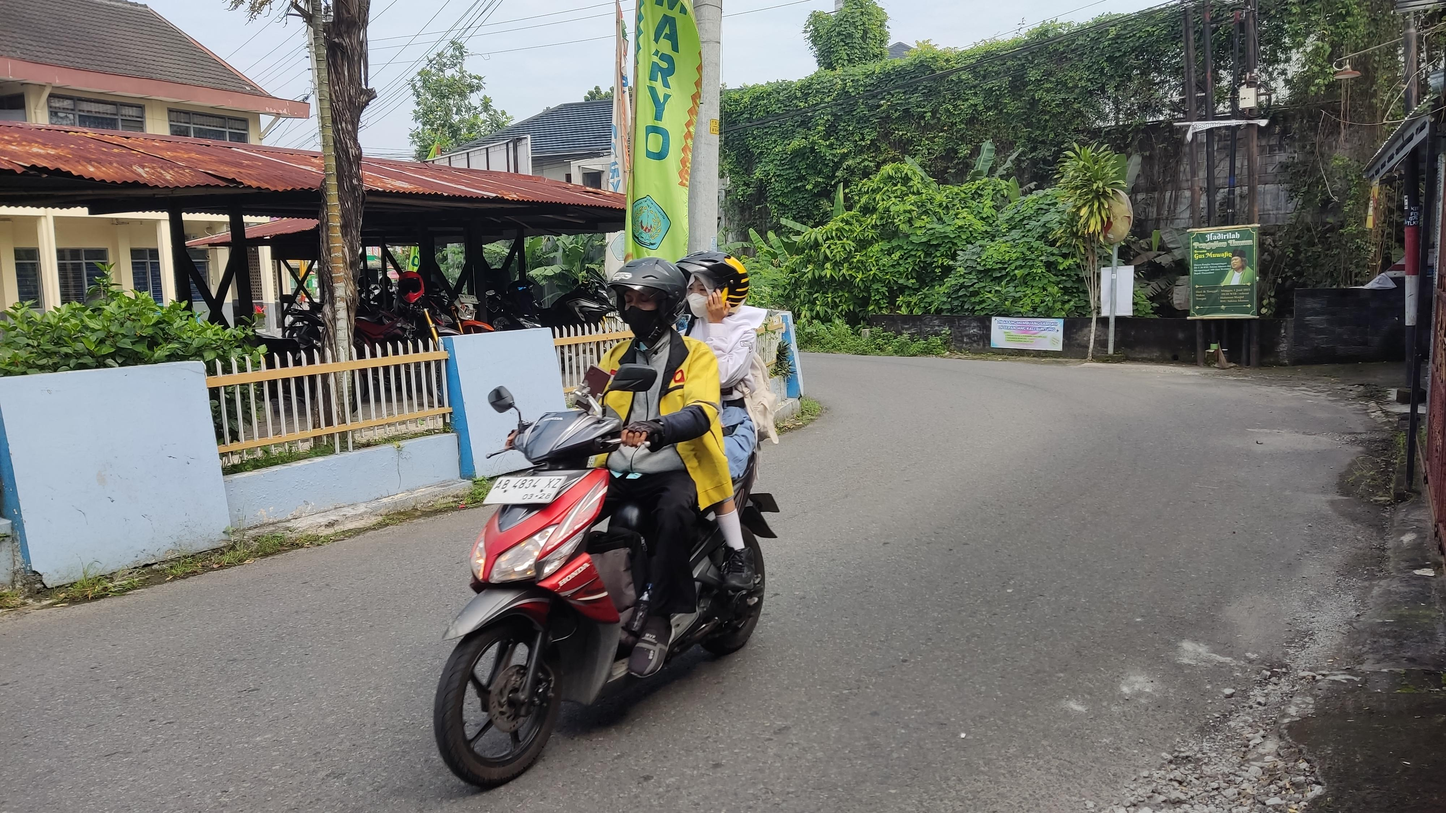helm: (609, 252, 684, 347), (681, 246, 756, 325)
riding: (430, 245, 786, 796)
